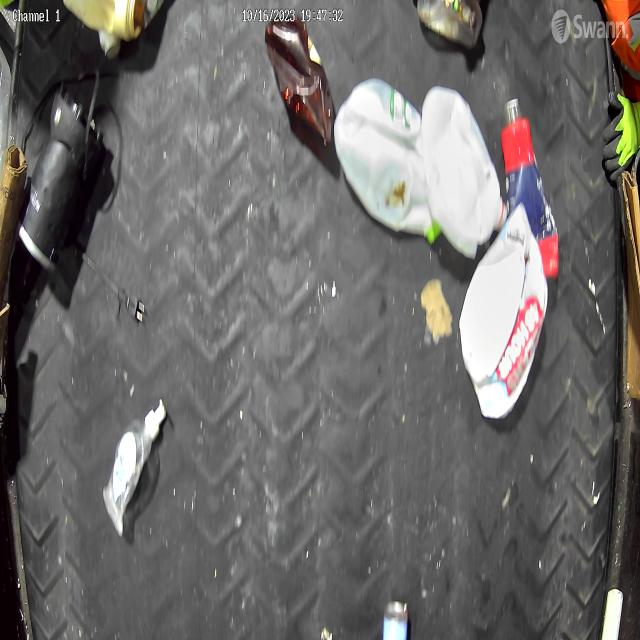can: (382, 599, 408, 640)
milk_jug: (334, 75, 442, 246), (421, 85, 506, 259)
